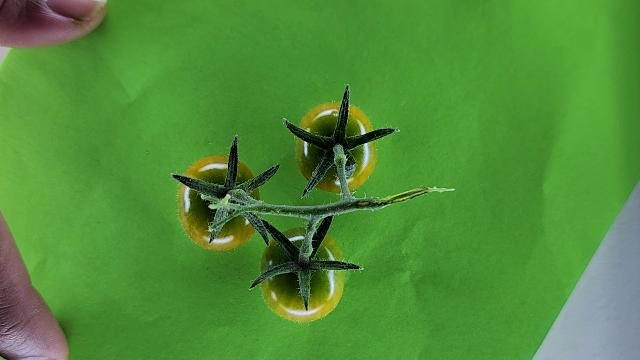Fully Grown: (259, 226, 348, 322), (176, 156, 261, 251), (293, 101, 377, 193)
